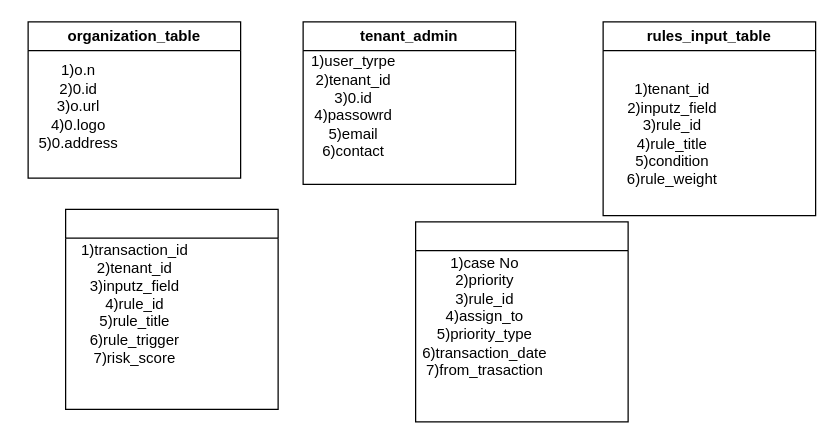
The diagram is 838 pixels wide and 444 high, and some of its shapes have lost their labels. The box of each missing label's shape, as (x1, y1, x2, y2) in pixels:
case_management: (414, 221, 628, 422)
transaction_rules_trigger: (64, 208, 278, 409)
